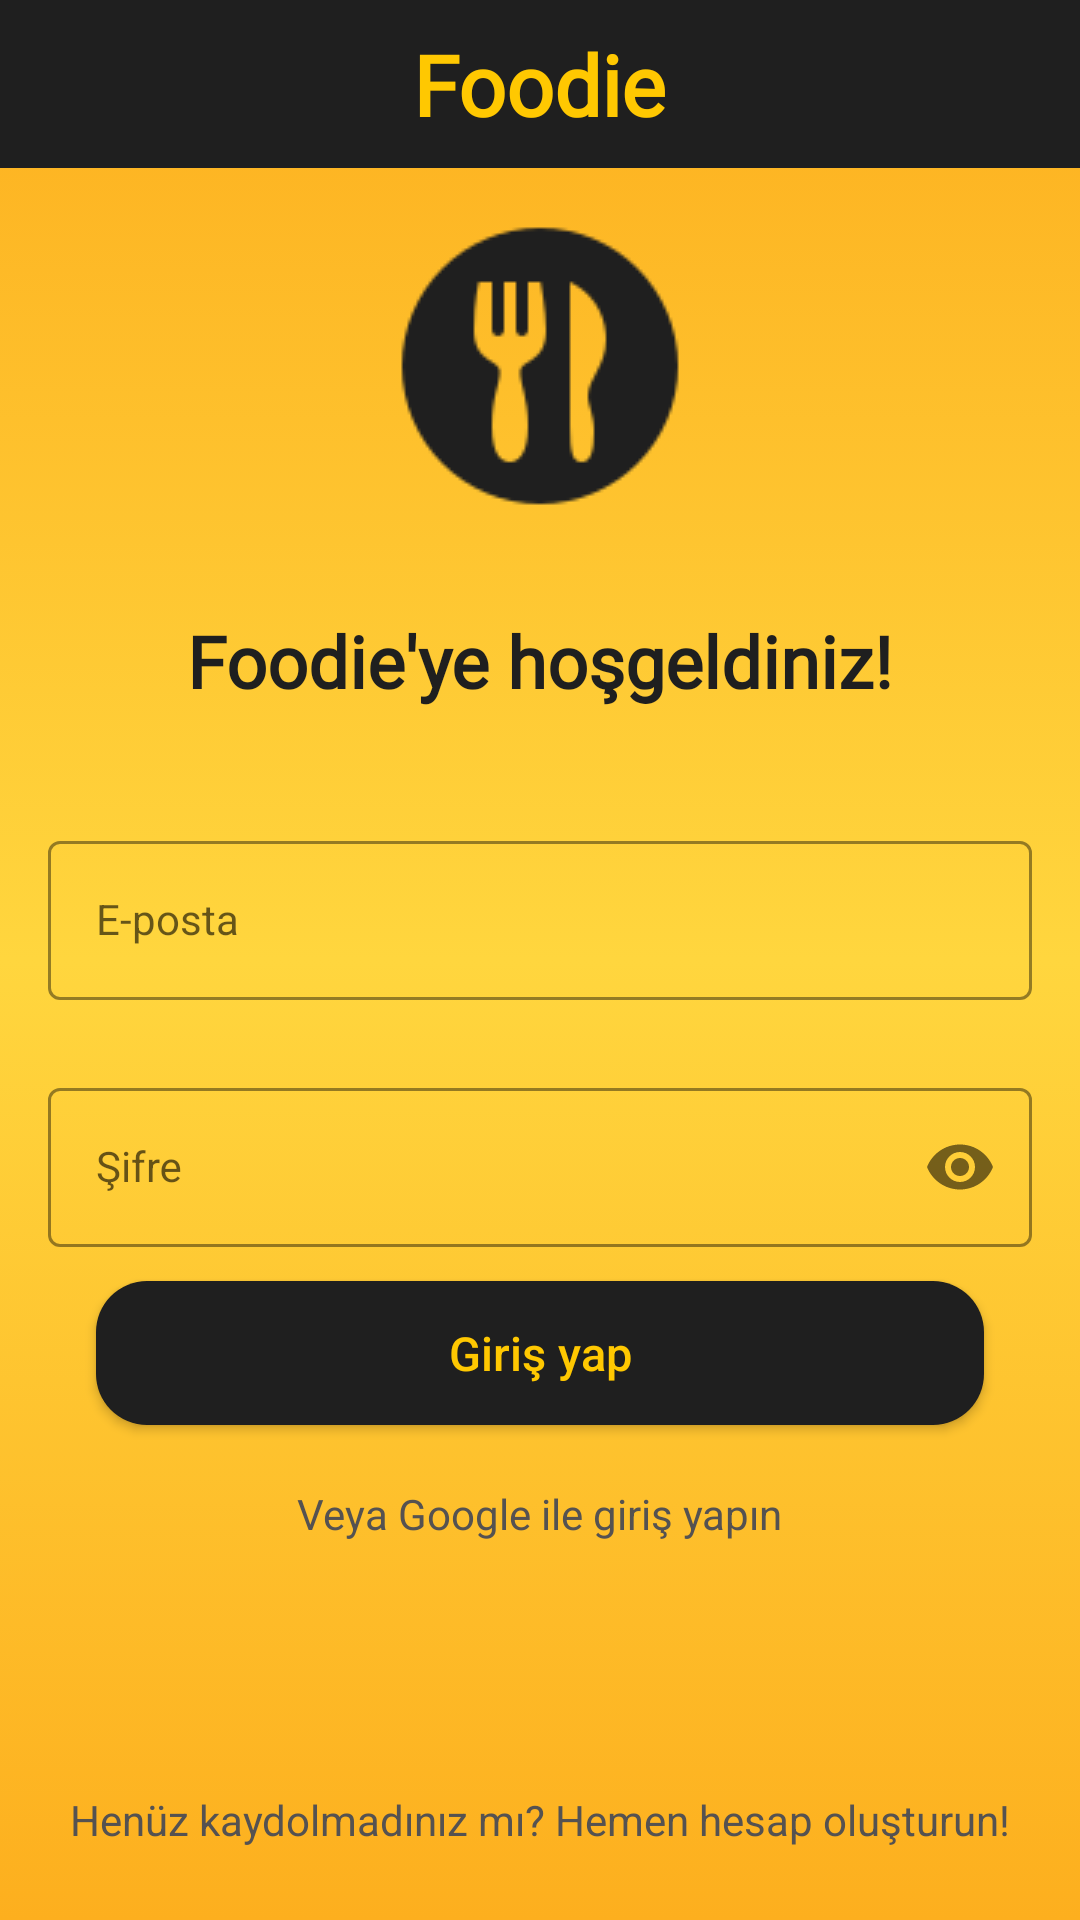

Point at icon controls on the screen. Image size 1080 x 1920, points as [x,y].
giris resim: [540,366]
